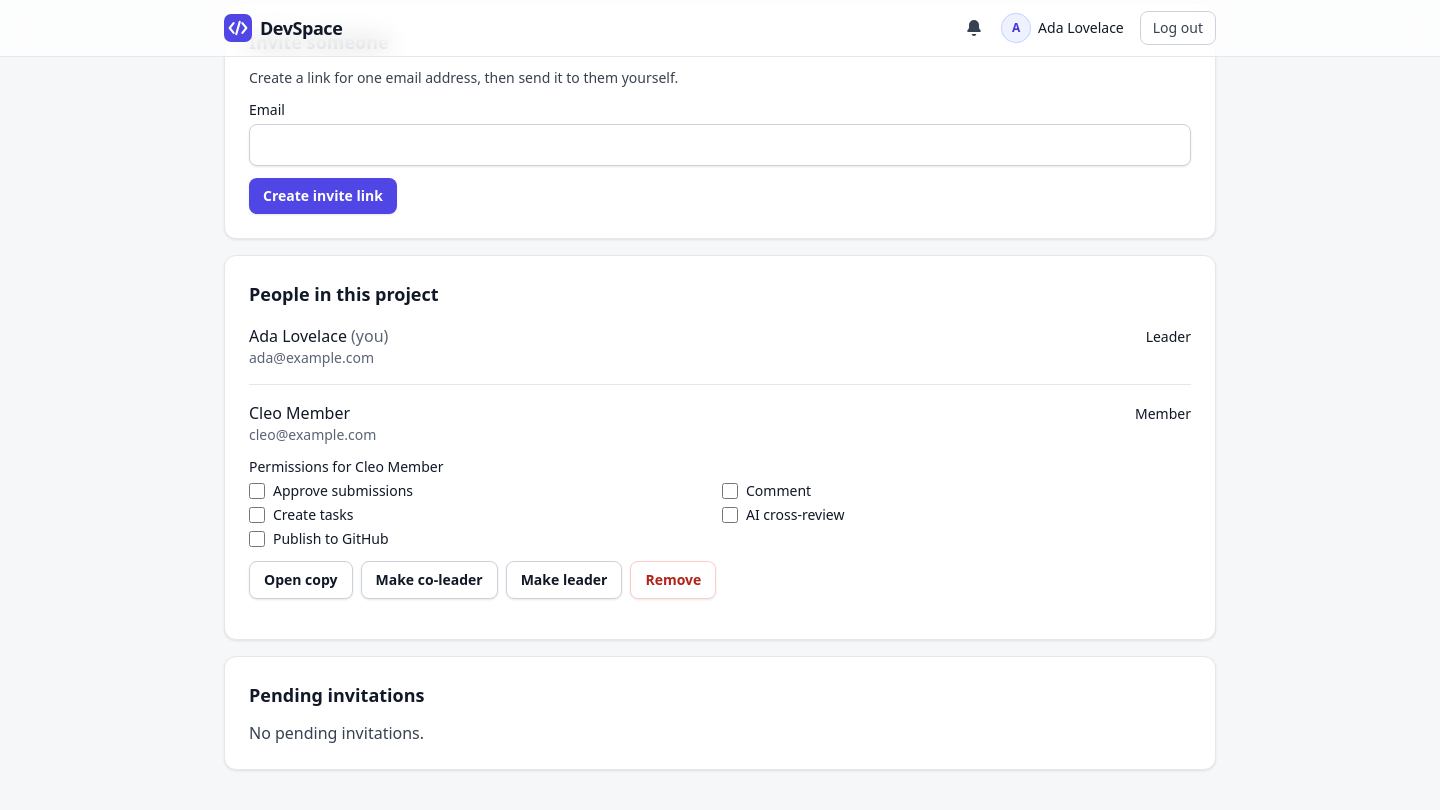
members page › removes a member only after confirming, and shows server errors
(page scrolled)
Expected: the text "Cleo Member" is shown, [249, 402, 350, 424]
Step 1. Click the button "Remove" → x=673, y=580, box [630, 561, 716, 599]
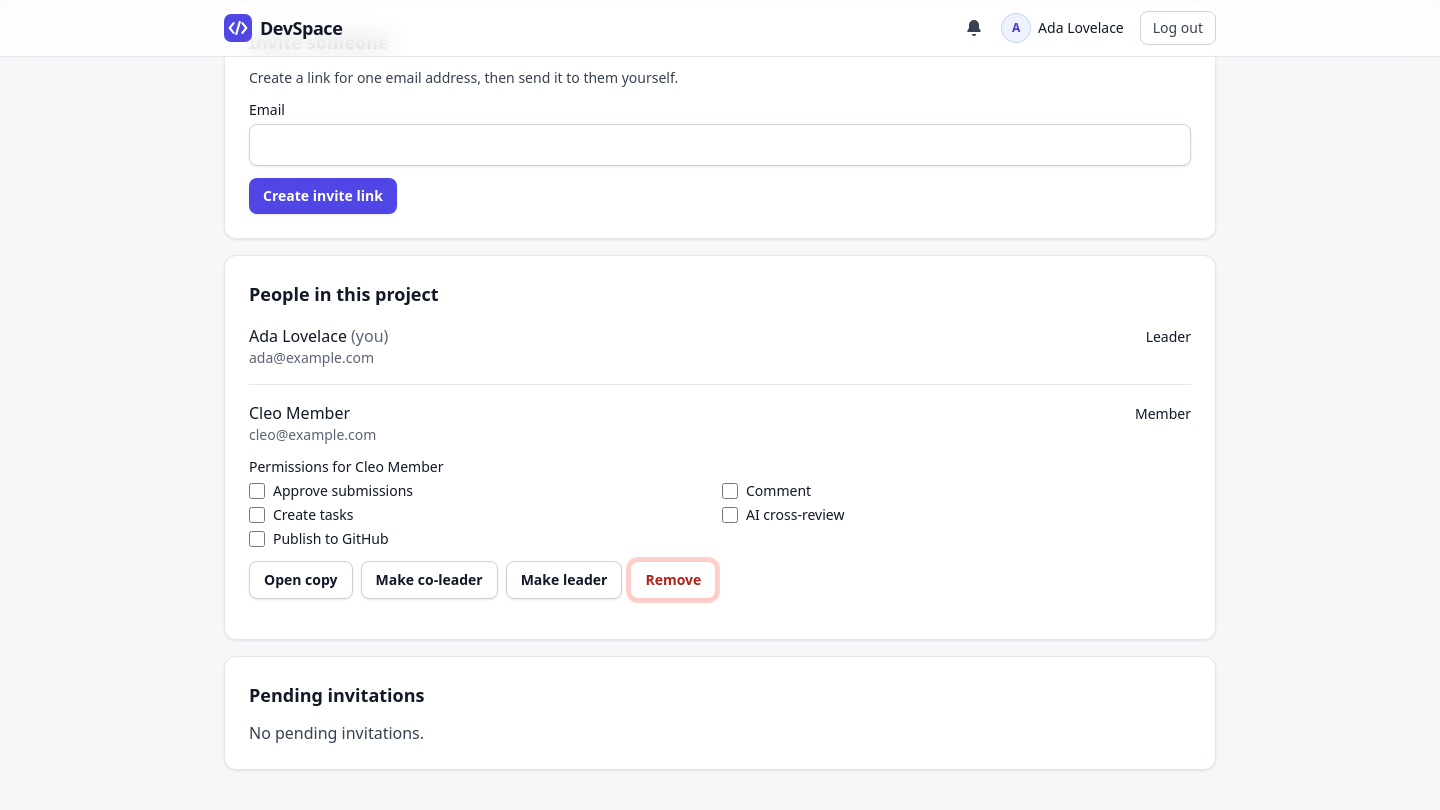
Step 2. Click the button "Remove" → x=673, y=580, box [630, 561, 716, 599]
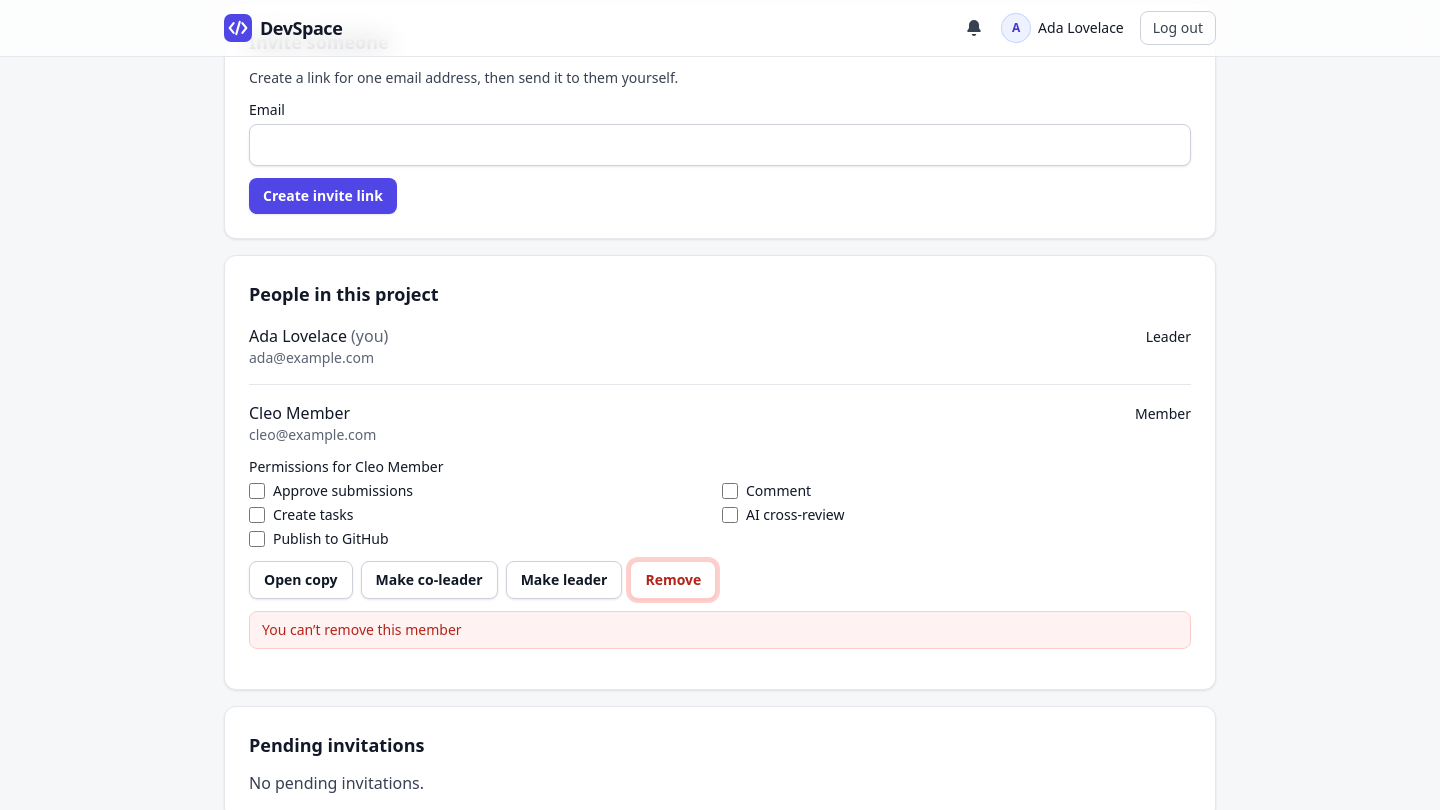
Result: the message reads "You can’t remove this member" at [262, 620, 462, 639]
